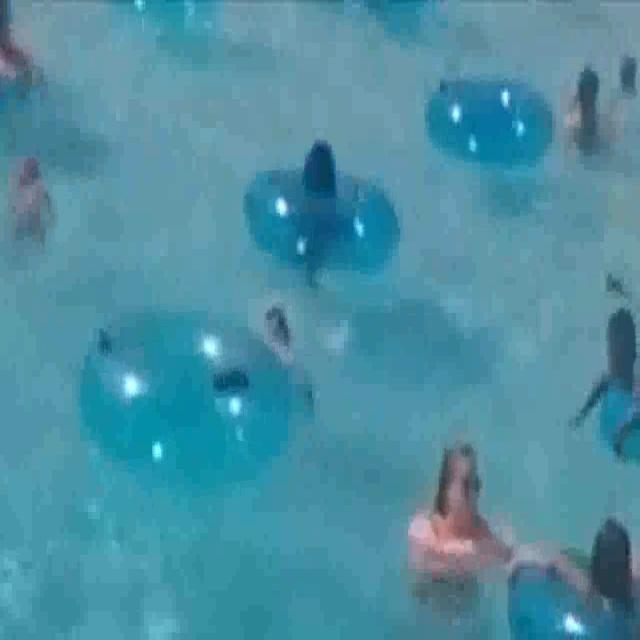Out of Water: (234, 288, 315, 391)
